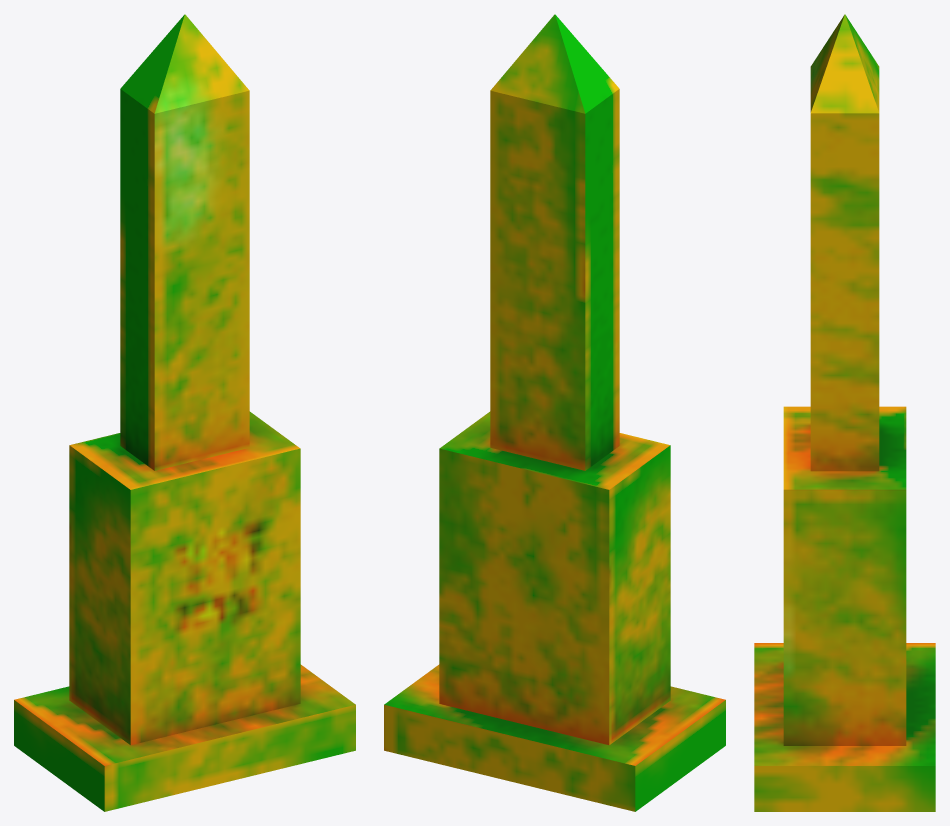
File: grave2.fbx
3 renders of one model, left to right at view 1: azimuth 30°, elevation 25°; view 2: azimuth 150°, elevation 25°; view 3: azimuth 270°, elevation 25°, orthographic.
Parts seen in each view (by area): view 1: gravestoneMonumentC; view 2: gravestoneMonumentC; view 3: gravestoneMonumentC.
Part boxes in pixels (<box>): gravestoneMonumentC: <box>14,14,355,811</box>; gravestoneMonumentC: <box>384,14,725,811</box>; gravestoneMonumentC: <box>754,14,935,811</box>.
Bounding box in the file's own units: 1.59 × 4.45 × 0.9935.
